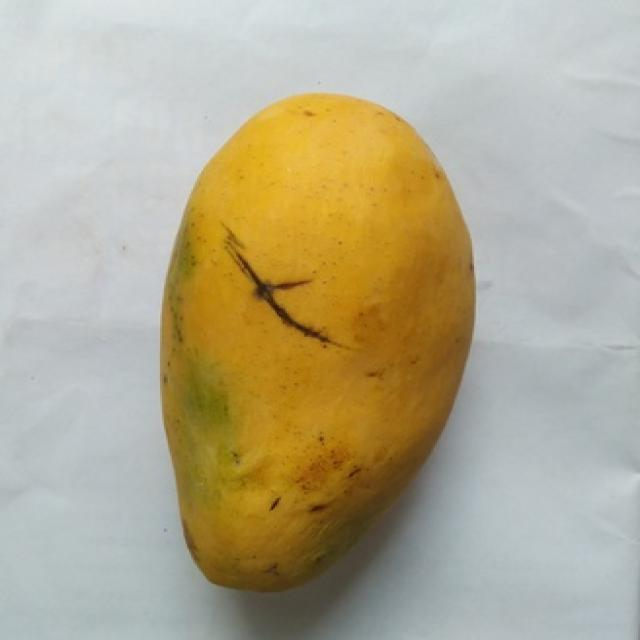Mango: (162, 94, 472, 591)
